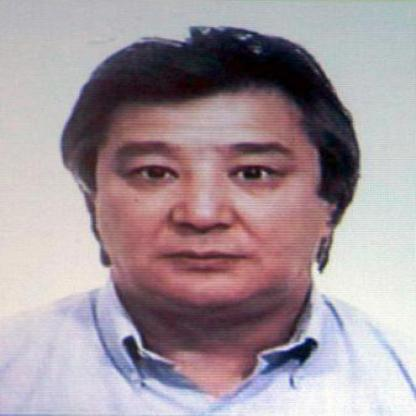face: (93, 50, 330, 313)
